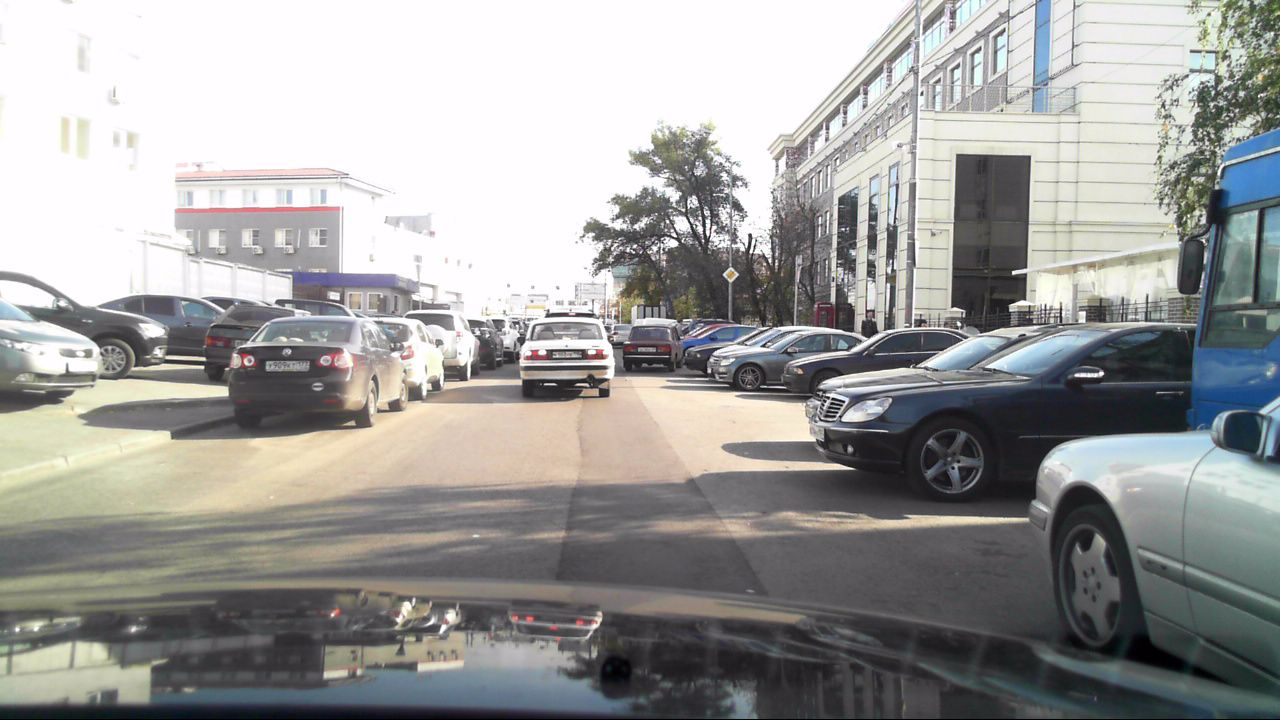main road: (721, 265, 741, 285)
